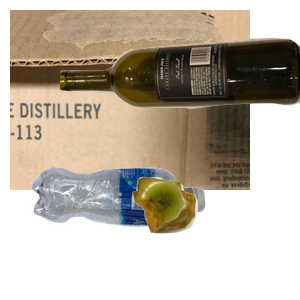cardboard: (10, 10, 250, 190)
glass: (60, 36, 300, 147)
plastic: (29, 165, 227, 300)
trash: (130, 175, 300, 300)
